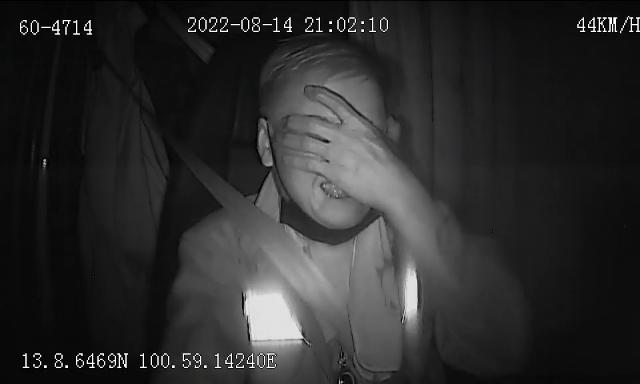Seatbelt: (174, 145, 350, 321)
